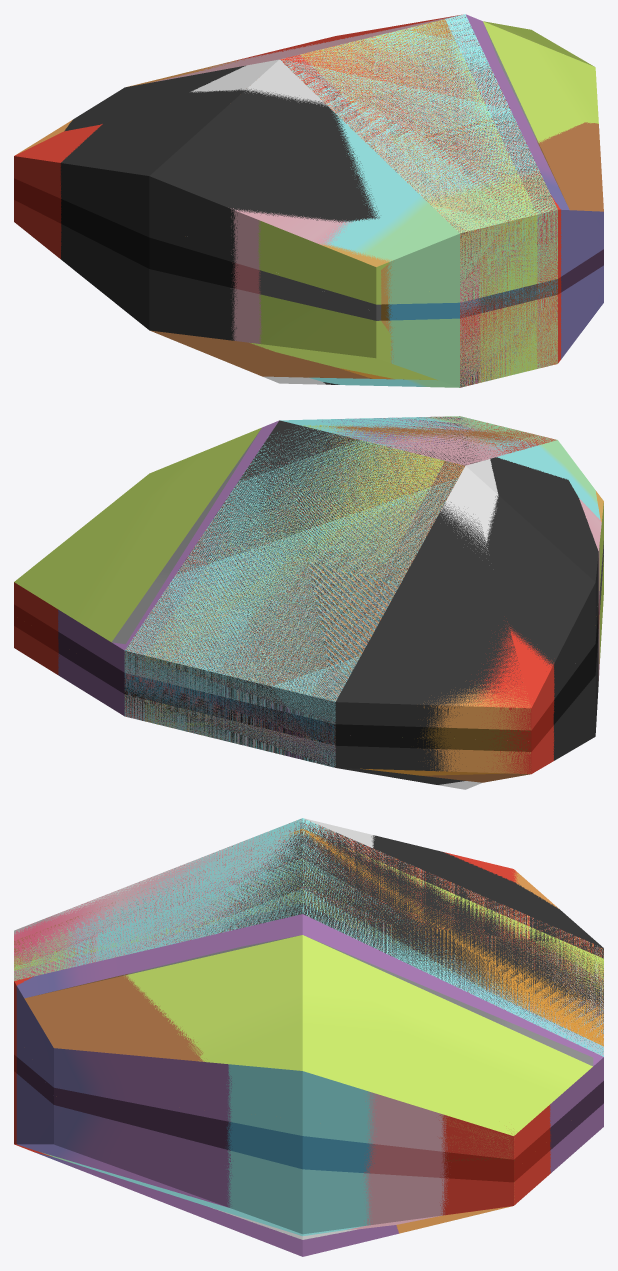
Rendered from Shell_G.fbx.
3 renders of one model, top to bottom at view 1: azimuth 30°, elevation 25°; view 2: azimuth 150°, elevation 25°; view 3: azimuth 270°, elevation 25°, orthographic. The views are drawn at different scales.
Visible parts, largest first — view 1: Shell_01, Shell_03, Shell_02, Shell_05, Shell_04, Shell_06, Shell_10, Shell_07, Shell_08, Shell_09; view 2: Shell_03, Shell_01, Shell_02, Shell_06, Shell_05, Shell_07, Shell_04, Shell_08, Shell_10, Shell_09; view 3: Shell_02, Shell_01, Shell_07, Shell_03, Shell_04, Shell_05, Shell_10, Shell_09, Shell_06, Shell_08.
Part boxes in pixels (box(x1,y1,x2,y2)): Shell_01: box(281, 14, 557, 387); Shell_03: box(60, 16, 556, 387); Shell_02: box(249, 19, 598, 382); Shell_05: box(14, 14, 561, 385); Shell_04: box(151, 14, 557, 387); Shell_06: box(16, 16, 557, 387); Shell_10: box(150, 19, 603, 381); Shell_07: box(337, 14, 603, 386); Shell_08: box(191, 15, 557, 385); Shell_09: box(308, 20, 537, 379); Shell_03: box(124, 417, 598, 784); Shell_01: box(124, 416, 600, 767); Shell_02: box(14, 424, 603, 754); Shell_06: box(125, 437, 603, 773); Shell_05: box(14, 417, 556, 774); Shell_07: box(58, 416, 471, 765); Shell_04: box(124, 416, 601, 765); Shell_08: box(124, 438, 544, 789); Shell_10: box(153, 425, 535, 782); Shell_09: box(174, 424, 517, 775); Shell_02: box(14, 846, 603, 1135); Shell_01: box(14, 818, 603, 1236); Shell_07: box(15, 835, 603, 1256); Shell_03: box(173, 820, 603, 1044); Shell_04: box(14, 819, 603, 1229); Shell_05: box(14, 821, 603, 1215); Shell_10: box(14, 878, 514, 1135); Shell_09: box(126, 828, 603, 1046); Shell_06: box(246, 828, 603, 1233); Shell_08: box(14, 818, 603, 1239).
Size of the model in its own units: 44.17 by 26.43 by 41.21.
